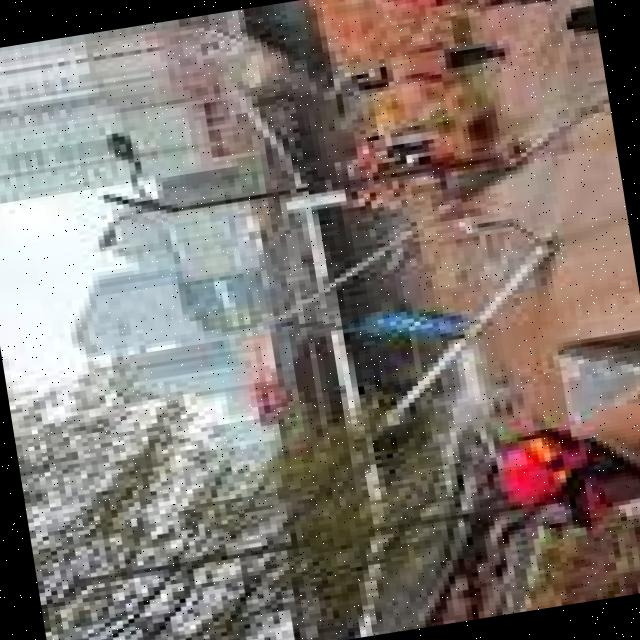bridge collapse: (47, 0, 608, 640)
